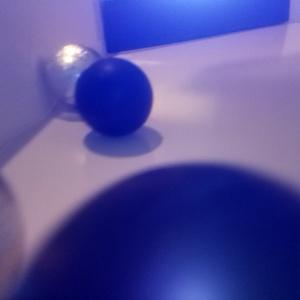alive_ball: (46, 45, 103, 107), (1, 177, 25, 300)
dead_ball: (19, 163, 300, 300), (76, 57, 154, 136)
